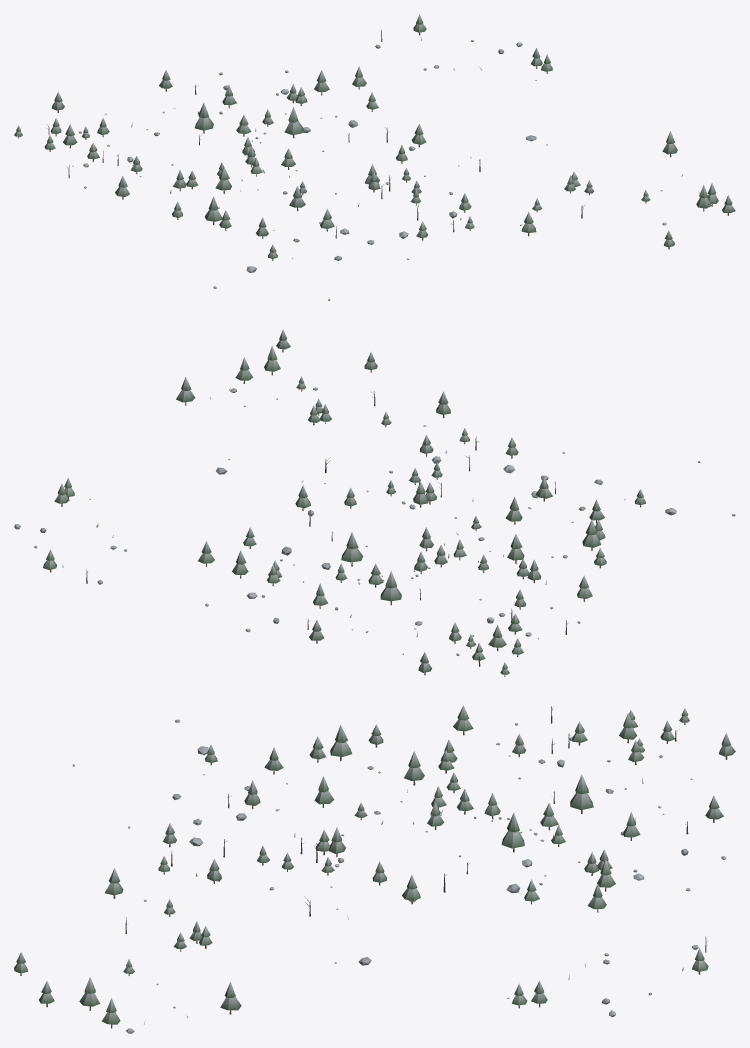
File: frost_land_scatter_c14_10_lod1.glb
The picture shows the model from 3 angles, top to bottom: view 1: azimuth 30°, elevation 25°; view 2: azimuth 150°, elevation 25°; view 3: azimuth 270°, elevation 25°; orthographic projection. The views are drawn at different scales.
Parts seen in each view (by area): view 1: frost_land_scatter_c14_10_lod1; view 2: frost_land_scatter_c14_10_lod1; view 3: frost_land_scatter_c14_10_lod1.
Part boxes in pixels (x1,y1,x2,y2): frost_land_scatter_c14_10_lod1: (14,14,735,300); frost_land_scatter_c14_10_lod1: (14,329,735,676); frost_land_scatter_c14_10_lod1: (14,705,735,1033).
Bounding box in the file's own units: 253 × 24.44 × 260.
